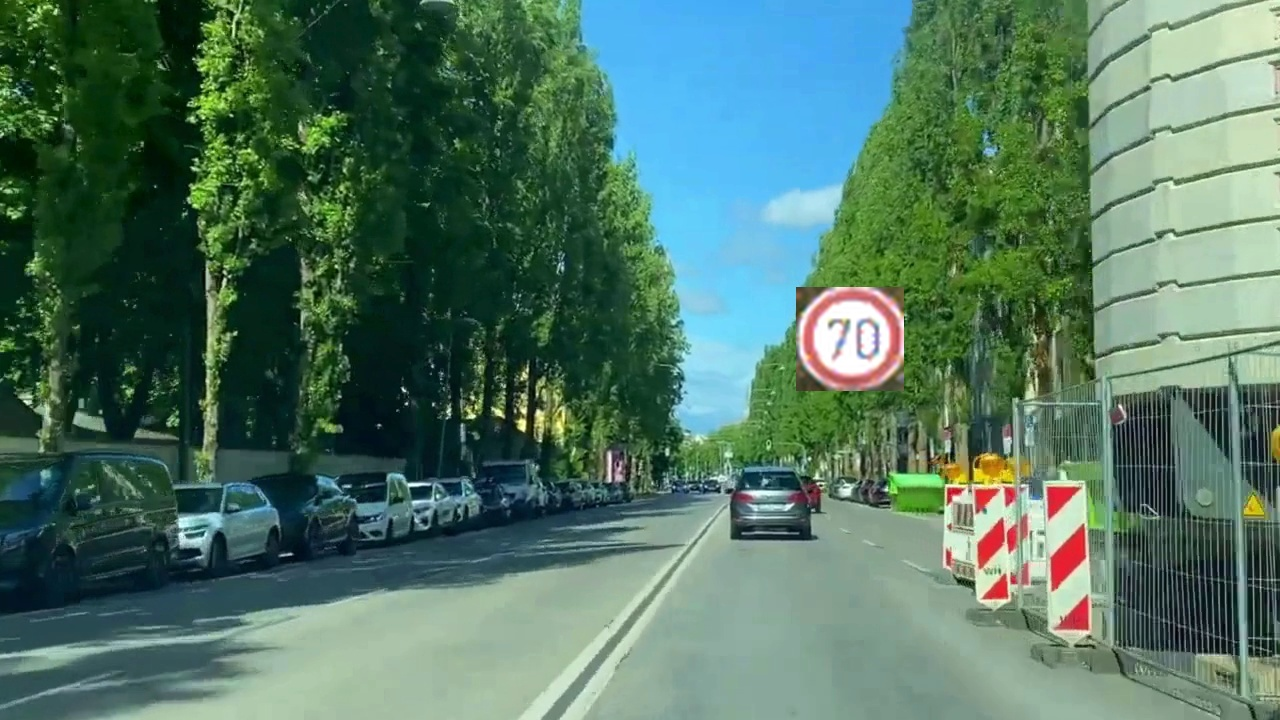Speed 70: (796, 287, 904, 391)
